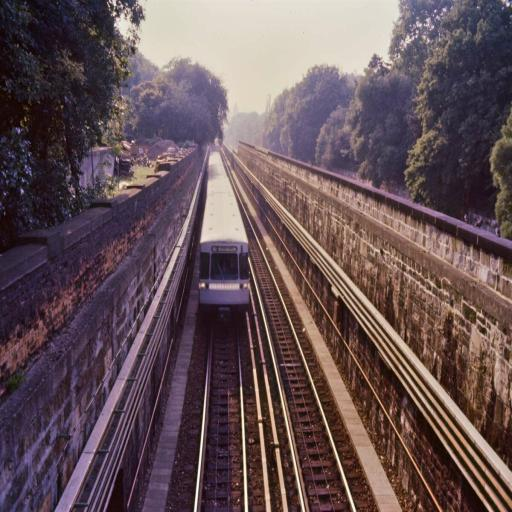Silberpfeil: (197, 151, 252, 313)
